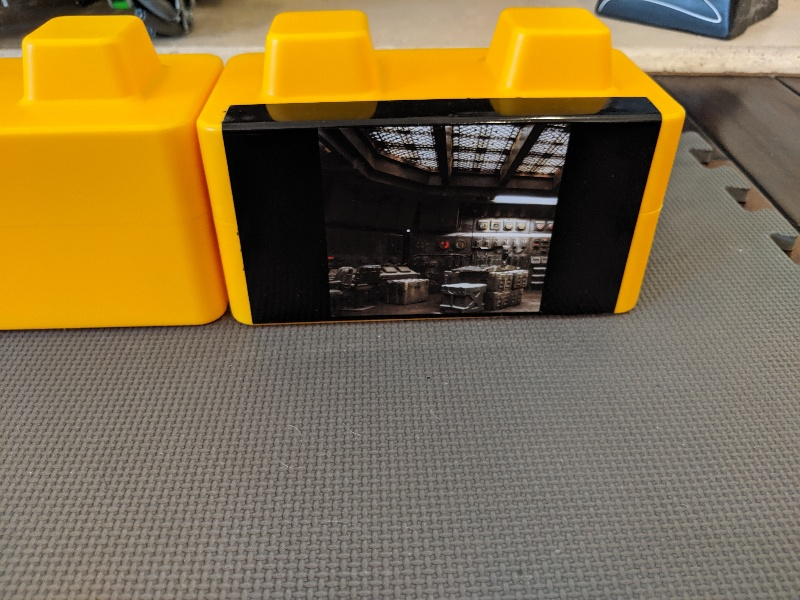Skystone: (209, 91, 670, 331)
